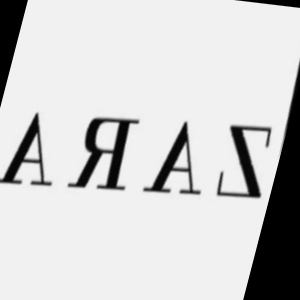zara: (269, 60, 299, 164)
